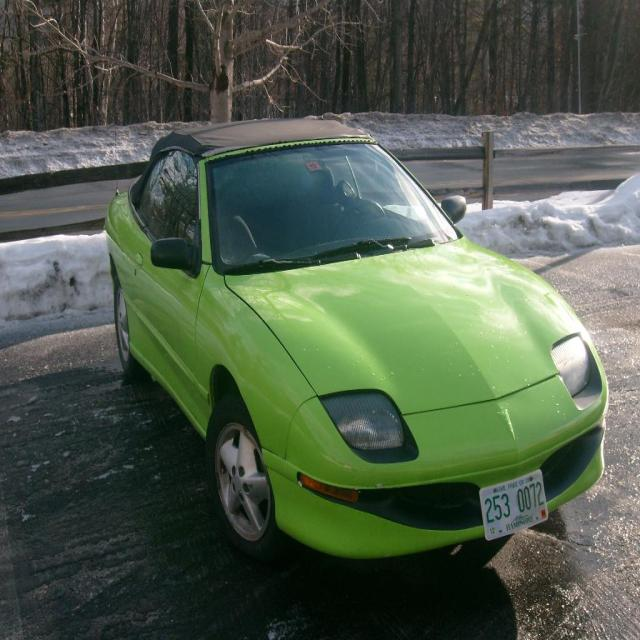car: (104, 113, 604, 560)
